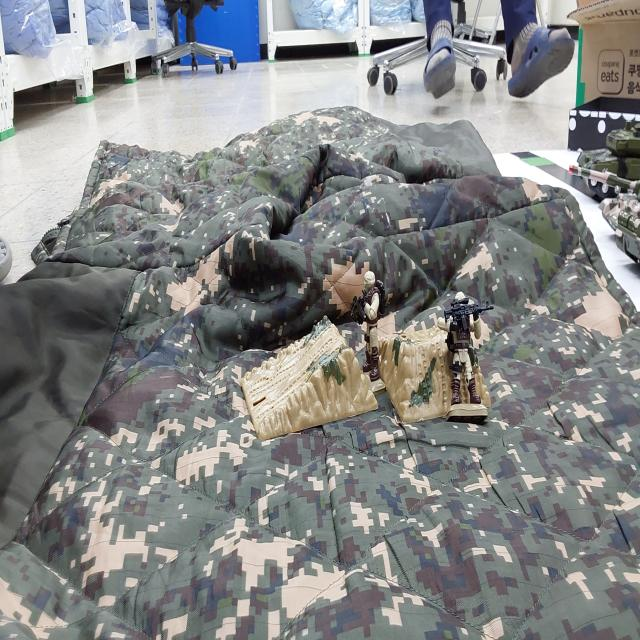ally: (437, 292, 494, 423), (351, 271, 385, 392)
